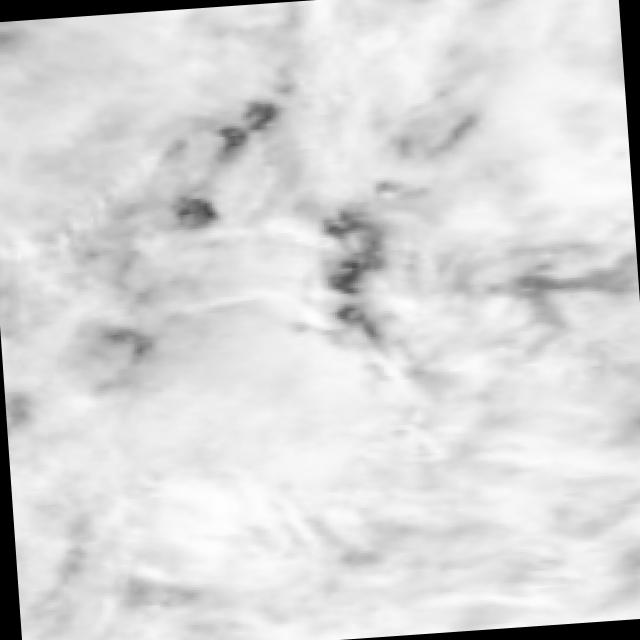CB: (402, 180, 640, 433), (7, 428, 253, 640), (410, 412, 640, 633), (213, 409, 432, 640), (0, 233, 219, 461), (379, 0, 630, 194), (0, 20, 206, 200)
